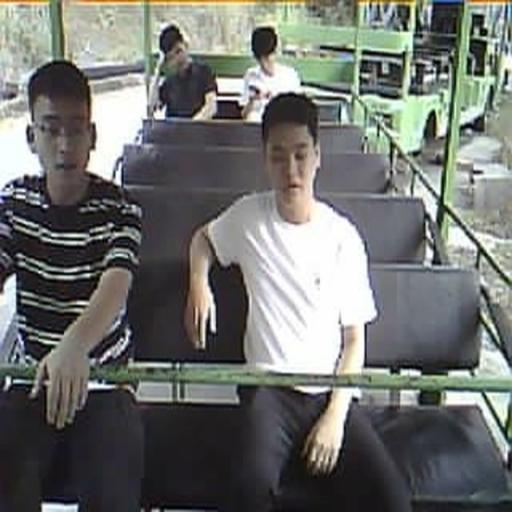persona: (182, 90, 412, 511), (0, 58, 144, 511), (149, 22, 219, 120), (240, 24, 302, 120)
